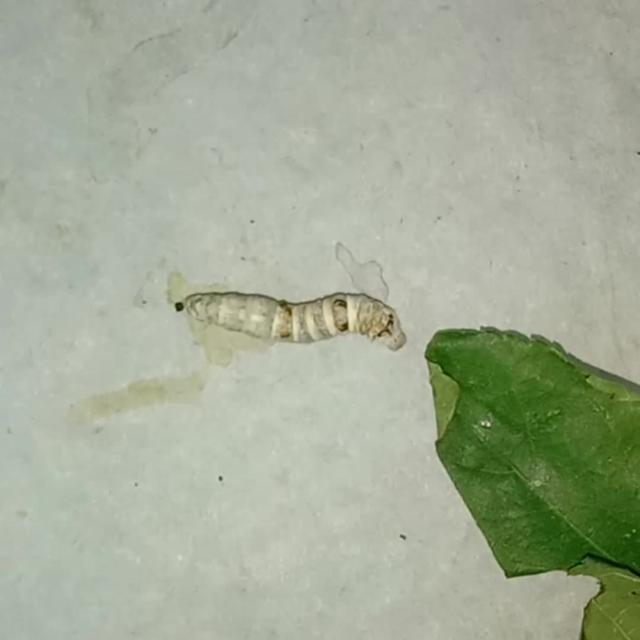Grasserie: (163, 245, 426, 404)
